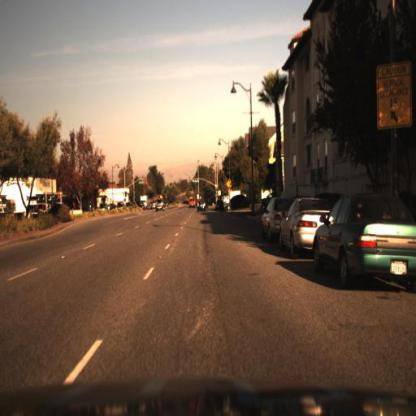car: (312, 193, 416, 290), (278, 197, 338, 255), (259, 194, 293, 251), (263, 193, 283, 245), (156, 190, 168, 215), (196, 198, 208, 217)
